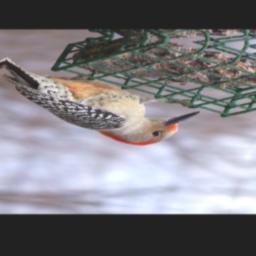Woodpecker: (0, 62, 211, 150)
